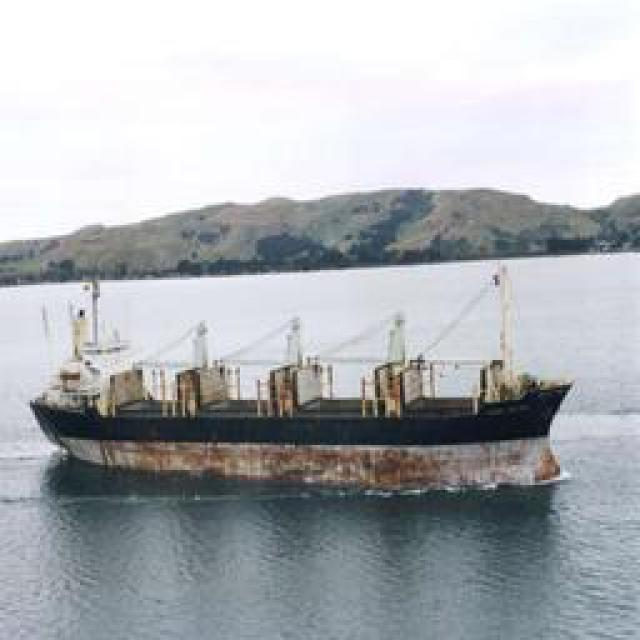Ship: (32, 308, 562, 486)
